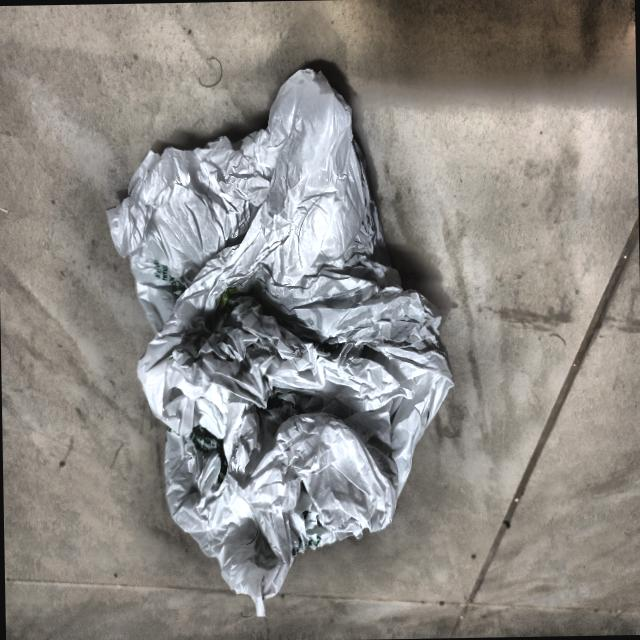plastic bag: (101, 56, 462, 629)
